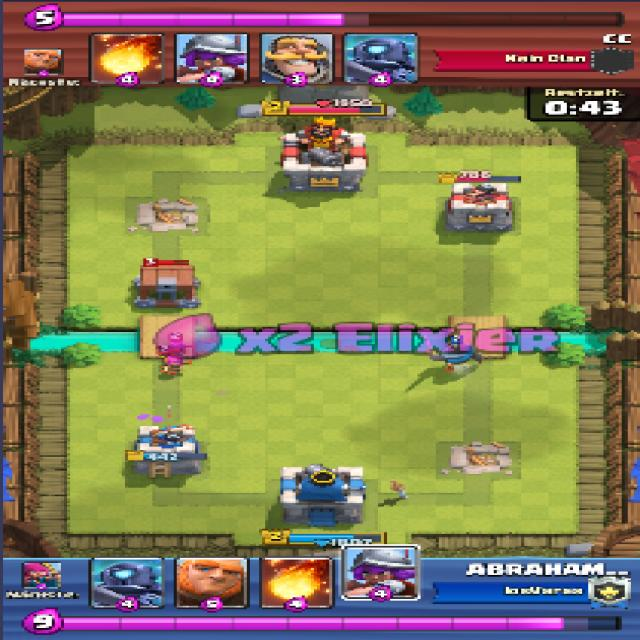Enemy-Archer: (158, 356, 195, 373), (159, 339, 187, 357)
Player-GoblinCage: (129, 262, 201, 309)
Player-Knight: (428, 342, 484, 371)
